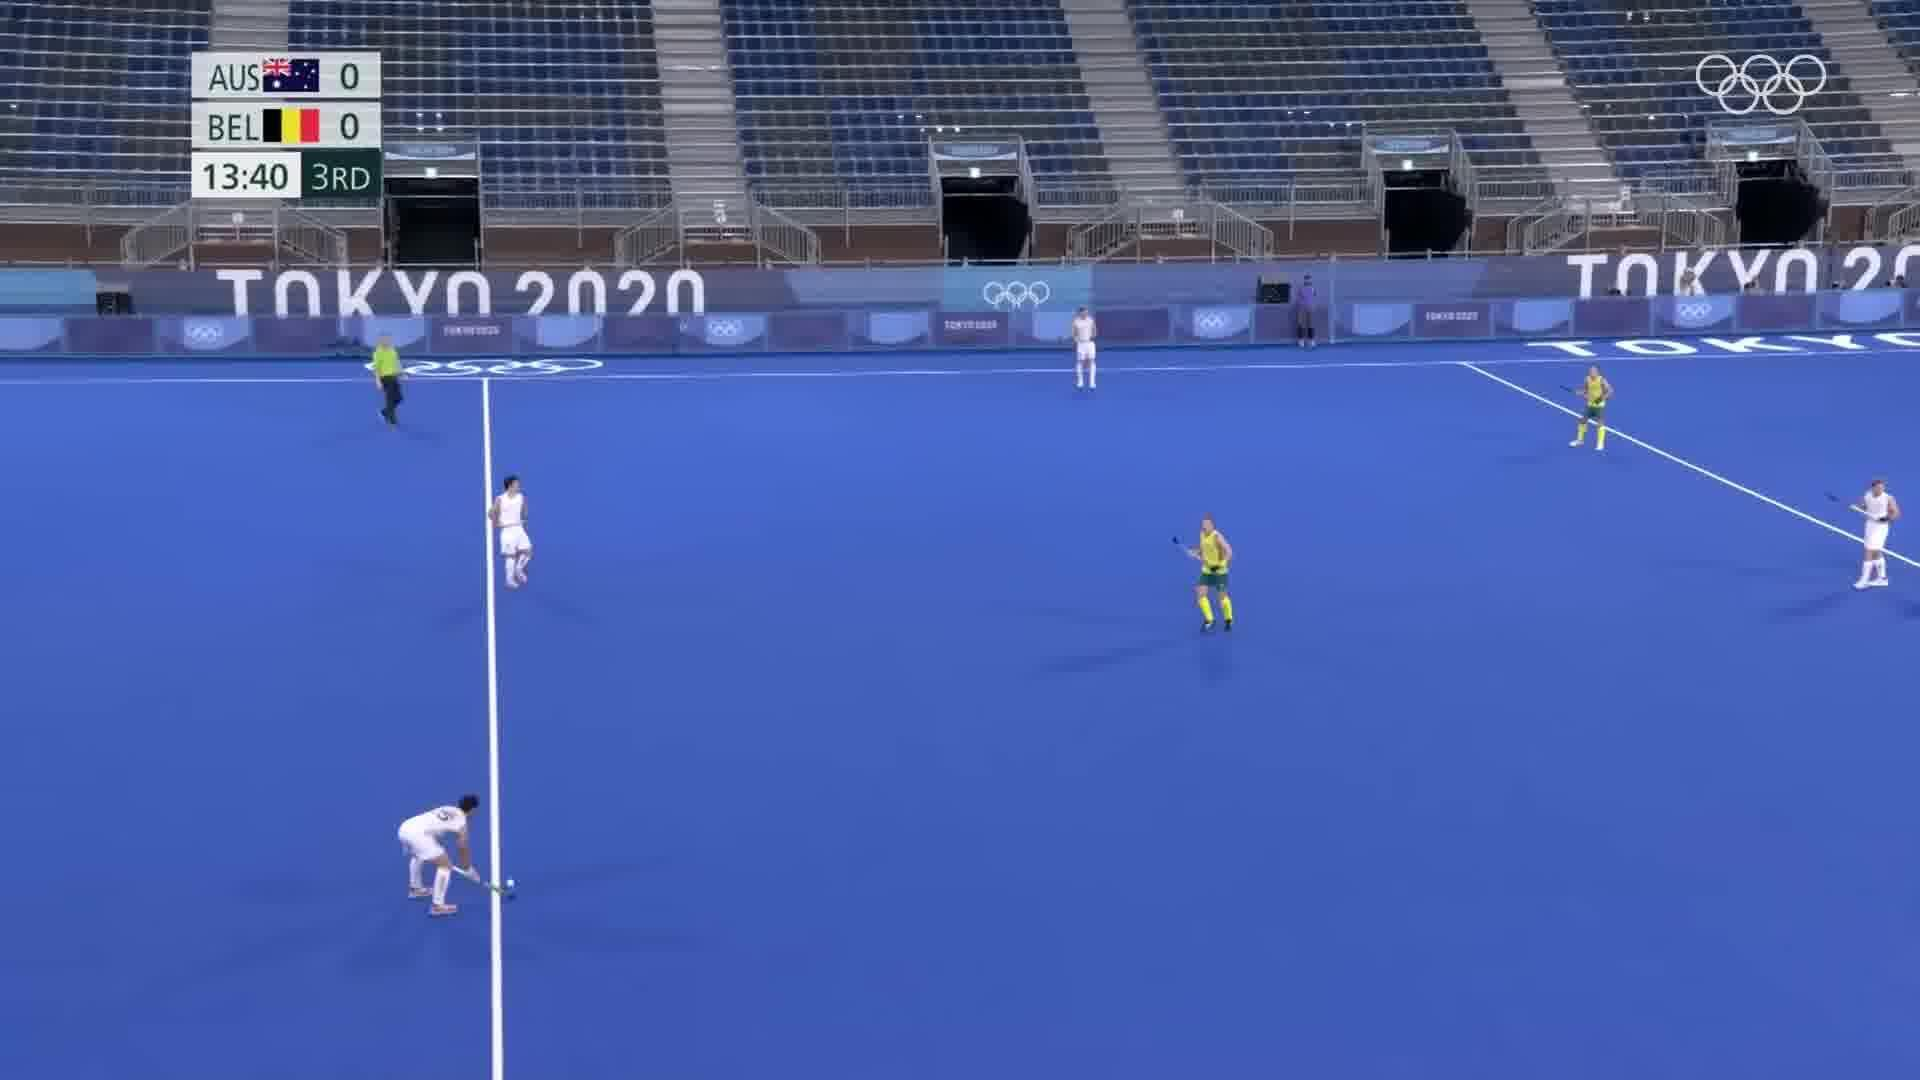ball: (502, 870, 524, 891)
